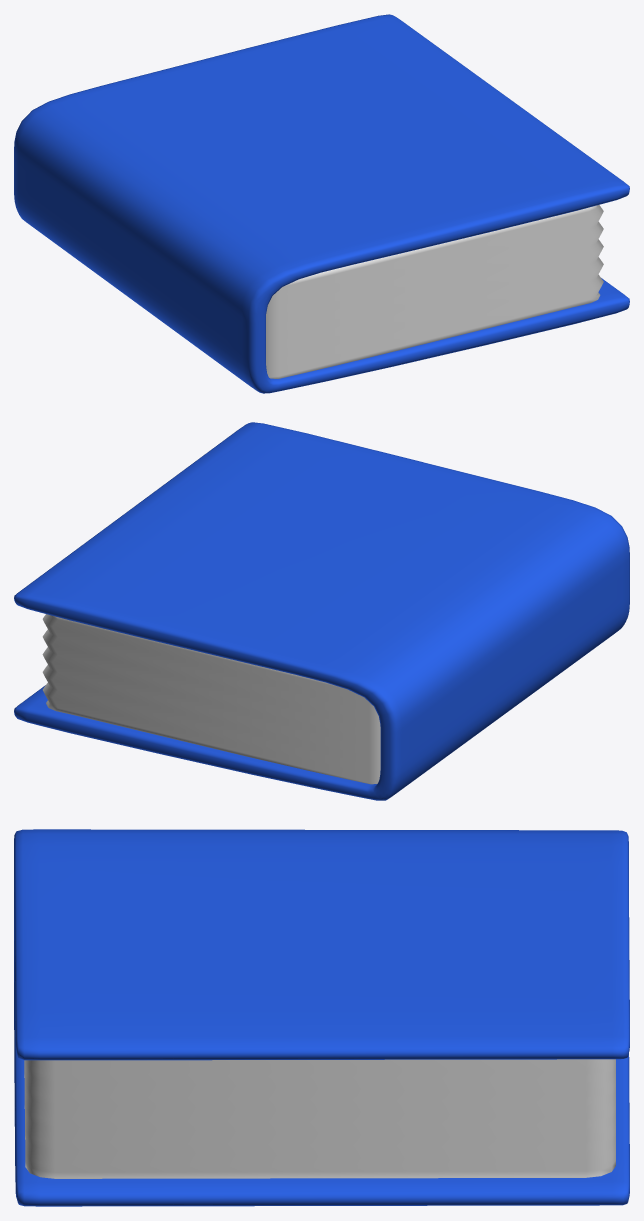
The model's file is kirja4.fbx.
3 renders of one model, top to bottom at view 1: azimuth 30°, elevation 25°; view 2: azimuth 150°, elevation 25°; view 3: azimuth 270°, elevation 25°, orthographic. The views are drawn at different scales.
Visible parts, largest first — view 1: kirja.003, sivut.003; view 2: kirja.003, sivut.003; view 3: kirja.003, sivut.003.
Part boxes in pixels (x1,y1,x2,y2): kirja.003: (14,14,629,393); sivut.003: (266,205,603,378); kirja.003: (14,422,629,800); sivut.003: (42,614,380,784); kirja.003: (14,829,629,1206); sivut.003: (24,1059,615,1178).
Size of the model in its own units: 21.44 by 6.83 by 23.11.
